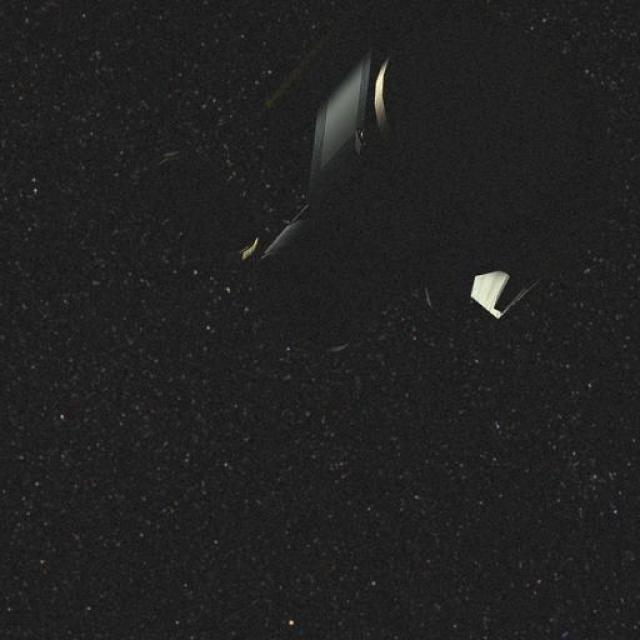cheops: (192, 76, 557, 342)
